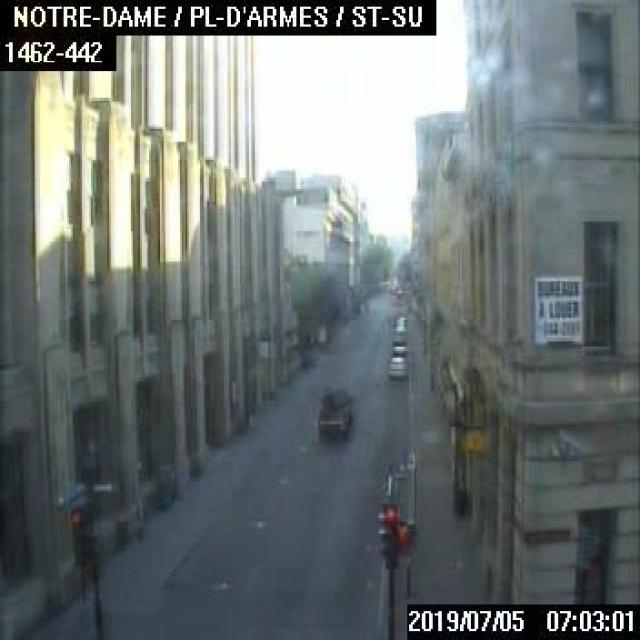vehicle: (316, 391, 351, 436), (389, 353, 406, 378), (390, 336, 407, 354), (391, 314, 408, 332)
